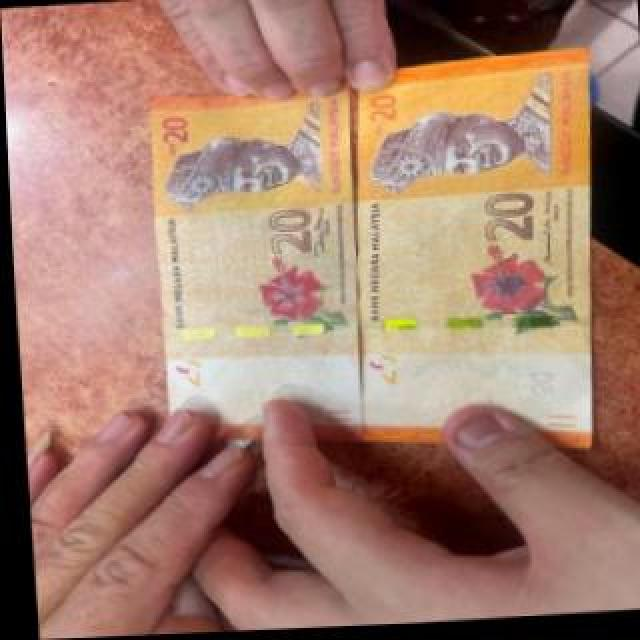20 Ringgit: (330, 48, 608, 461), (140, 72, 363, 447)
